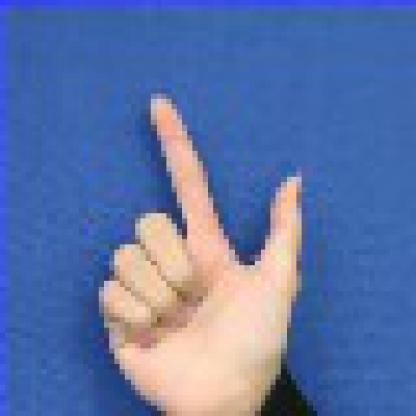seven: (68, 73, 354, 411)
